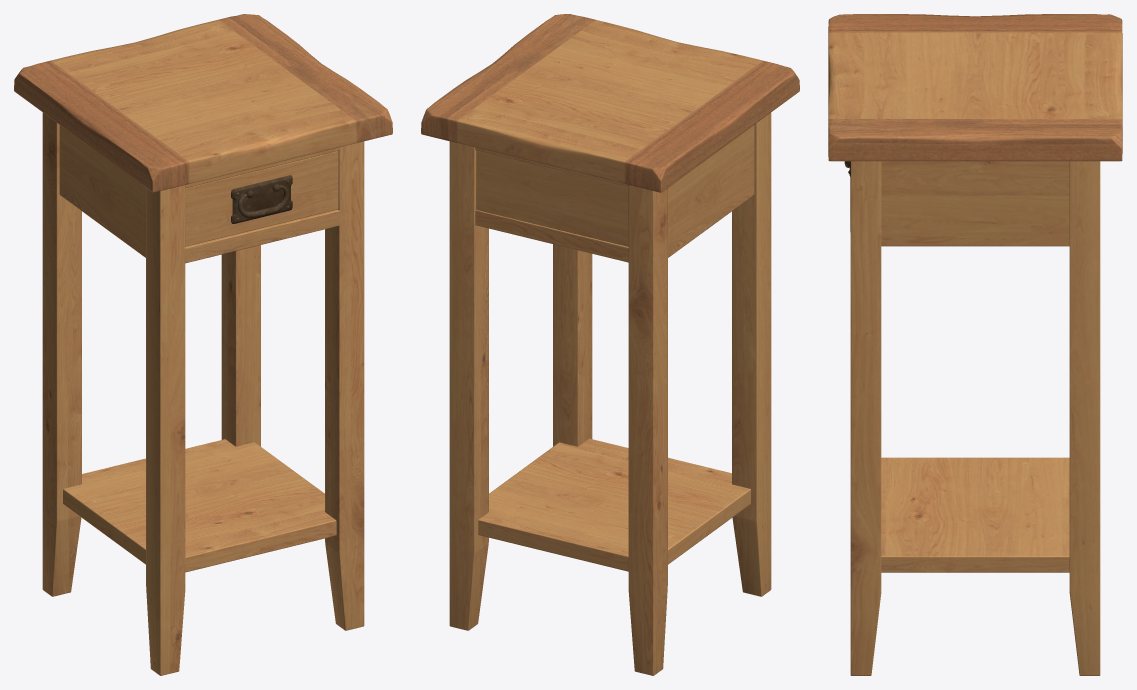
The model's file is B003PBOMJ6.glb.
The picture shows the model from 3 angles, left to right: view 1: azimuth 30°, elevation 25°; view 2: azimuth 150°, elevation 25°; view 3: azimuth 270°, elevation 25°; orthographic projection. The views are drawn at different scales.
Parts seen in each view (by area): view 1: B003PBOMJ6; view 2: B003PBOMJ6; view 3: B003PBOMJ6.
Boxes of the visible parts, x1=… form: B003PBOMJ6: x1=14, y1=14, x2=392, y2=675; B003PBOMJ6: x1=421, y1=14, x2=799, y2=675; B003PBOMJ6: x1=828, y1=14, x2=1122, y2=675.
Bounding box in the file's own units: 0.3599 × 0.7399 × 0.3599.
1 material, 1 textured.
